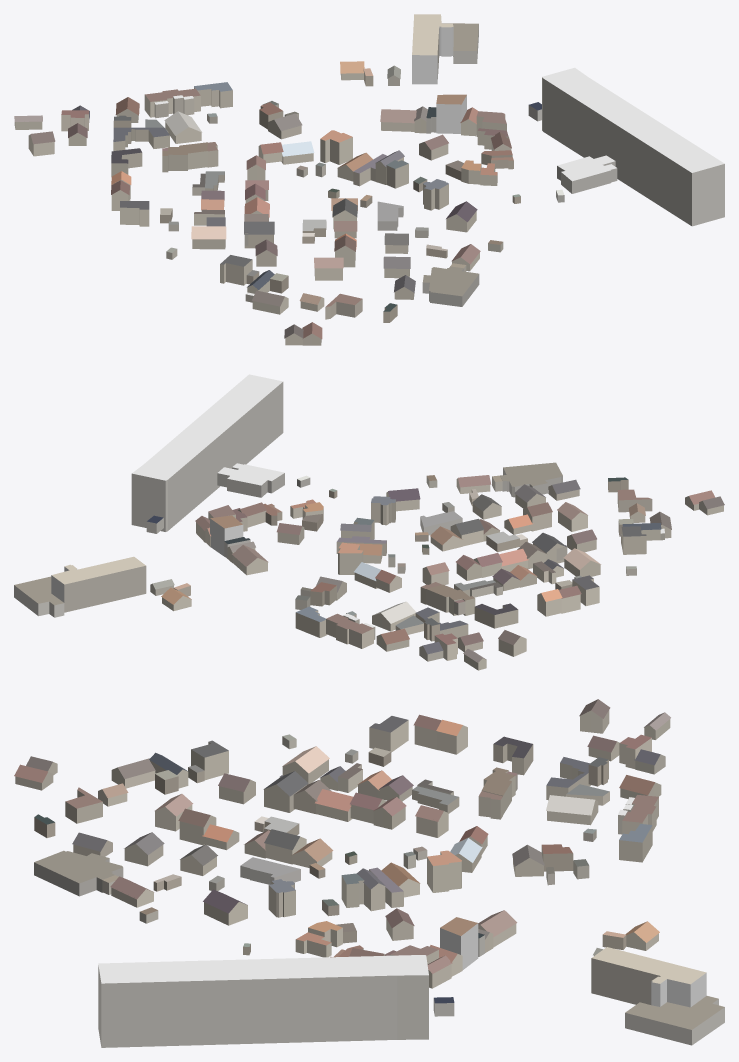
The picture shows the model from 3 angles, top to bottom: view 1: azimuth 30°, elevation 25°; view 2: azimuth 150°, elevation 25°; view 3: azimuth 270°, elevation 25°; orthographic projection. The views are drawn at different scales.
Visible parts, largest first — view 1: tuile; view 2: tuile; view 3: tuile.
Part boxes in pixels (left/top/right/bottom): tuile: left=14, top=14, right=724, bottom=345; tuile: left=14, top=374, right=724, bottom=670; tuile: left=14, top=699, right=724, bottom=1047.
Size of the model in its own units: 258 by 26.85 by 269.
